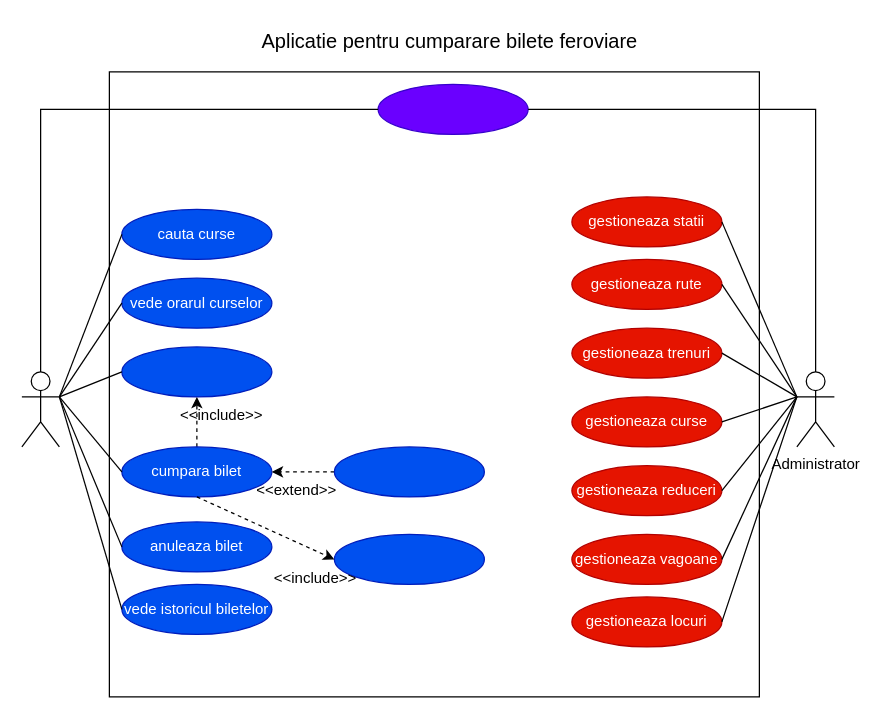
Image size: 881x719. Some labels were removed from this diagram. Here are the shapes that lost their labels. From the top down, the centre of each, then its label:
point 452,108: autentificare
point 196,371: vede locurile libere
point 40,409: Client
point 408,471: aplica reducere
point 408,558: calculeaza pret
